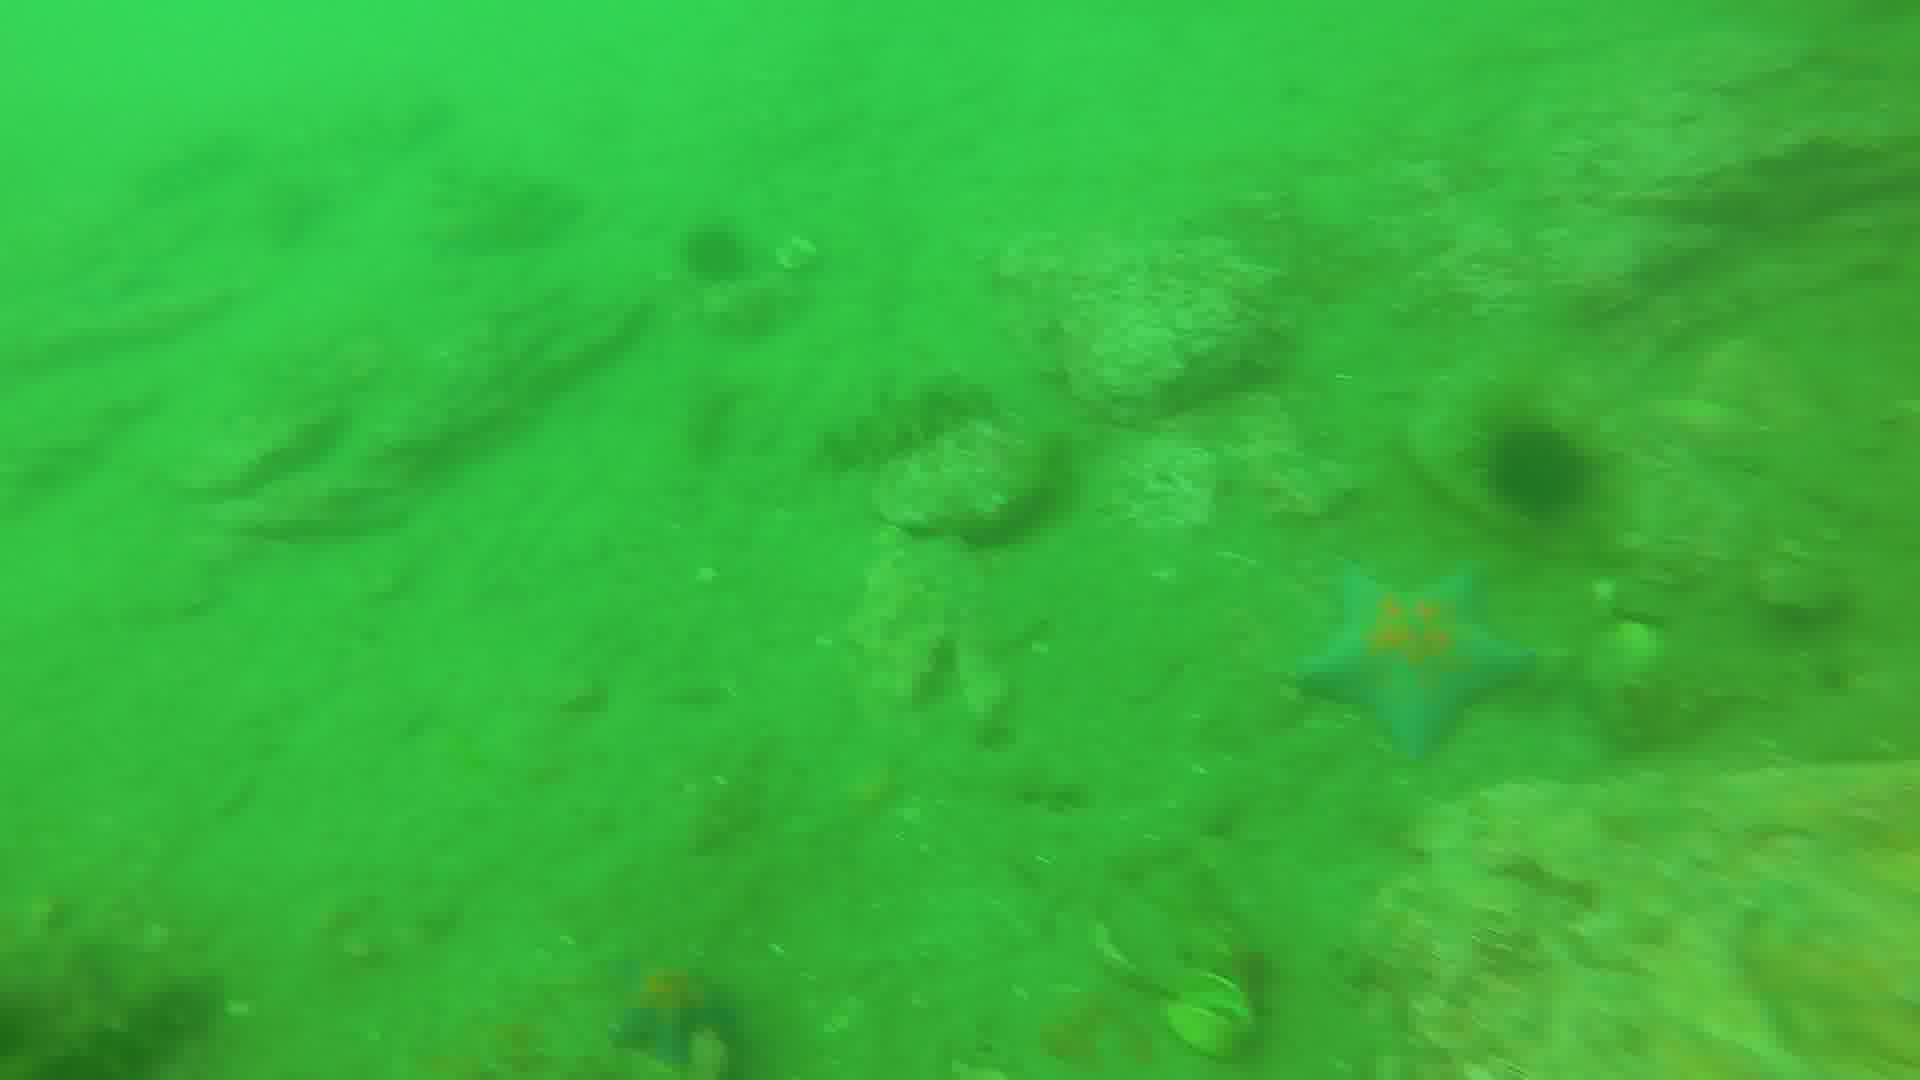echinus: (1480, 425, 1593, 524), (675, 218, 761, 289)
holothurian: (808, 386, 996, 477)
starfish: (1299, 574, 1534, 769), (603, 963, 748, 1073)
